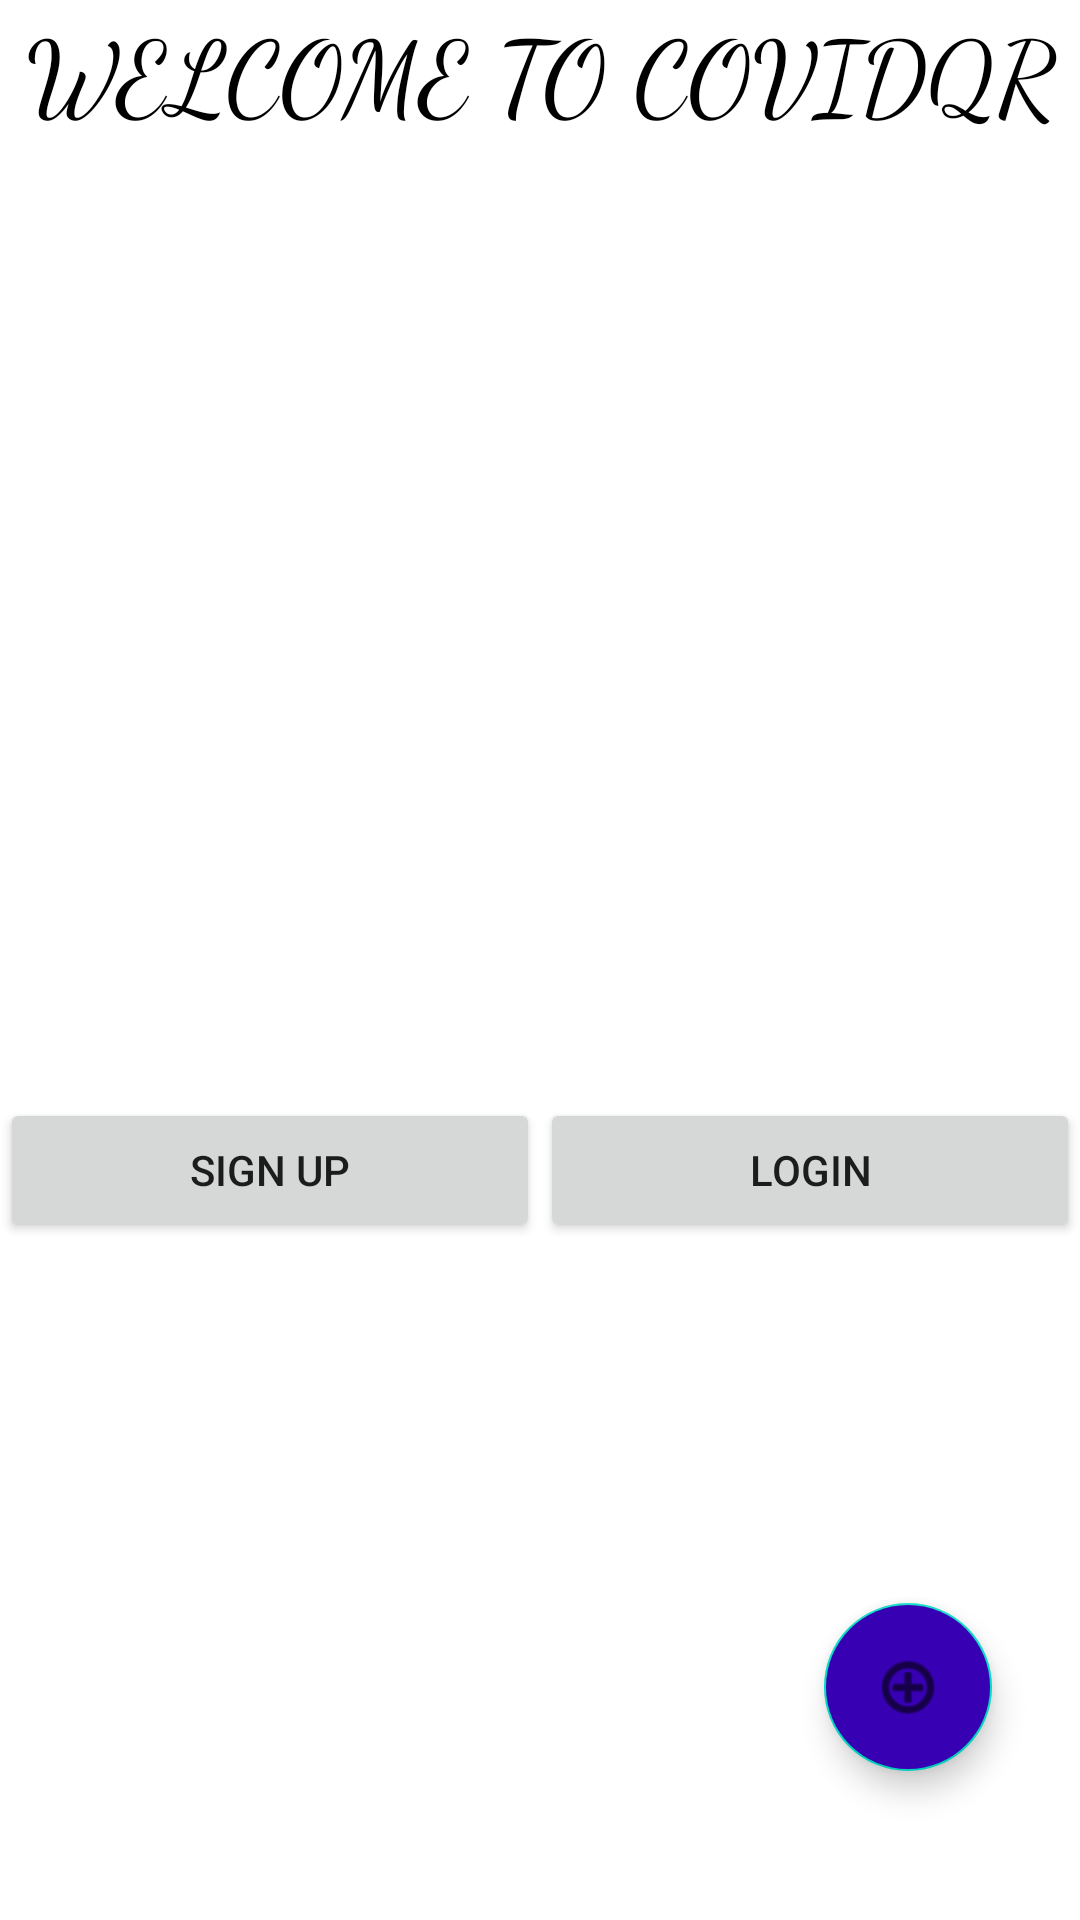

Named icons in this screenshot (1080 × 1920) and their bounding boxes, (x1, y1, x2, y2):
add: (824, 1603, 992, 1771)
